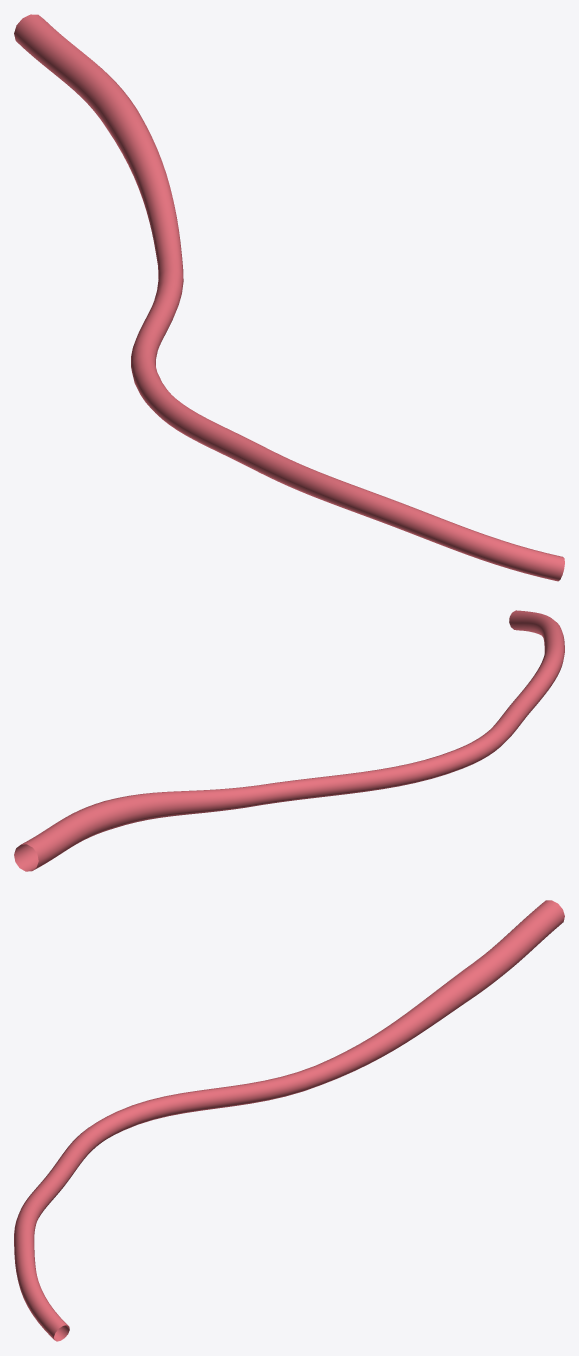
The picture shows the model from 3 angles, top to bottom: view 1: azimuth 30°, elevation 25°; view 2: azimuth 150°, elevation 25°; view 3: azimuth 330°, elevation 25°; orthographic projection. The views are drawn at different scales.
Parts seen in each view (by area): view 1: ZA_08e9e313f68d6c41; view 2: ZA_08e9e313f68d6c41; view 3: ZA_08e9e313f68d6c41.
Part boxes in pixels (bbox=[...]): ZA_08e9e313f68d6c41: bbox=[14, 14, 564, 581]; ZA_08e9e313f68d6c41: bbox=[14, 610, 564, 871]; ZA_08e9e313f68d6c41: bbox=[14, 900, 564, 1341].
Bounding box in the file's own units: 0.00774 × 0.0043 × 0.032.
